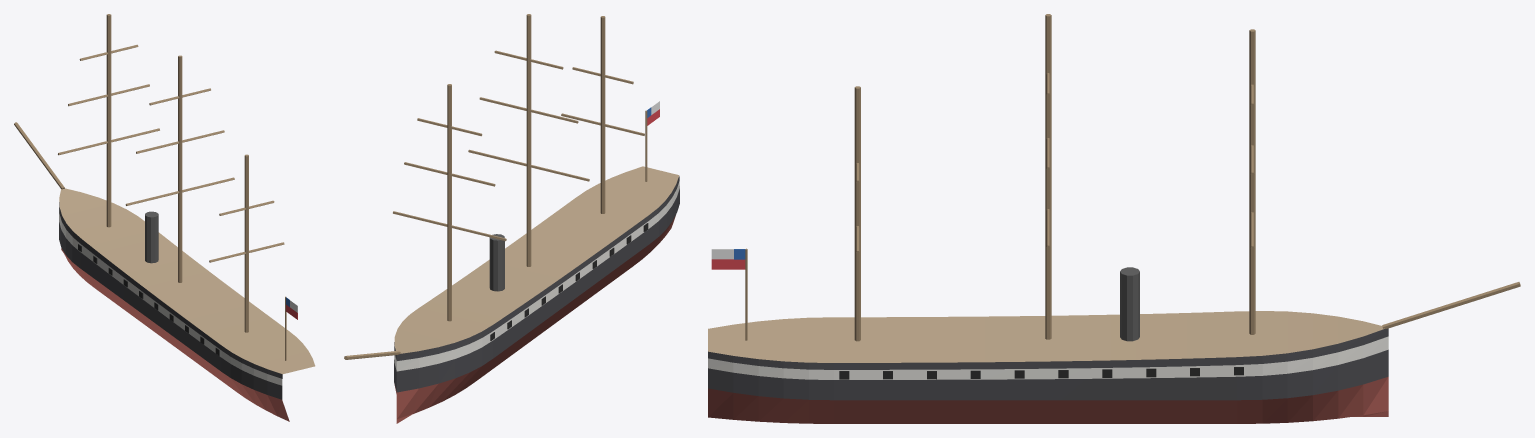
File: esmeralda.glb
3 renders of one model, left to right at view 1: azimuth 30°, elevation 25°; view 2: azimuth 150°, elevation 25°; view 3: azimuth 270°, elevation 25°, orthographic. The views are drawn at different scales.
Visible parts, largest first — view 1: esmeralda; view 2: esmeralda; view 3: esmeralda.
Part boxes in pixels (box(x1,y1,x2,y2)): esmeralda: box(14, 14, 315, 421); esmeralda: box(344, 14, 679, 423); esmeralda: box(708, 14, 1520, 423).
Bounding box in the file's own units: 16 × 39.76 × 72.85.
